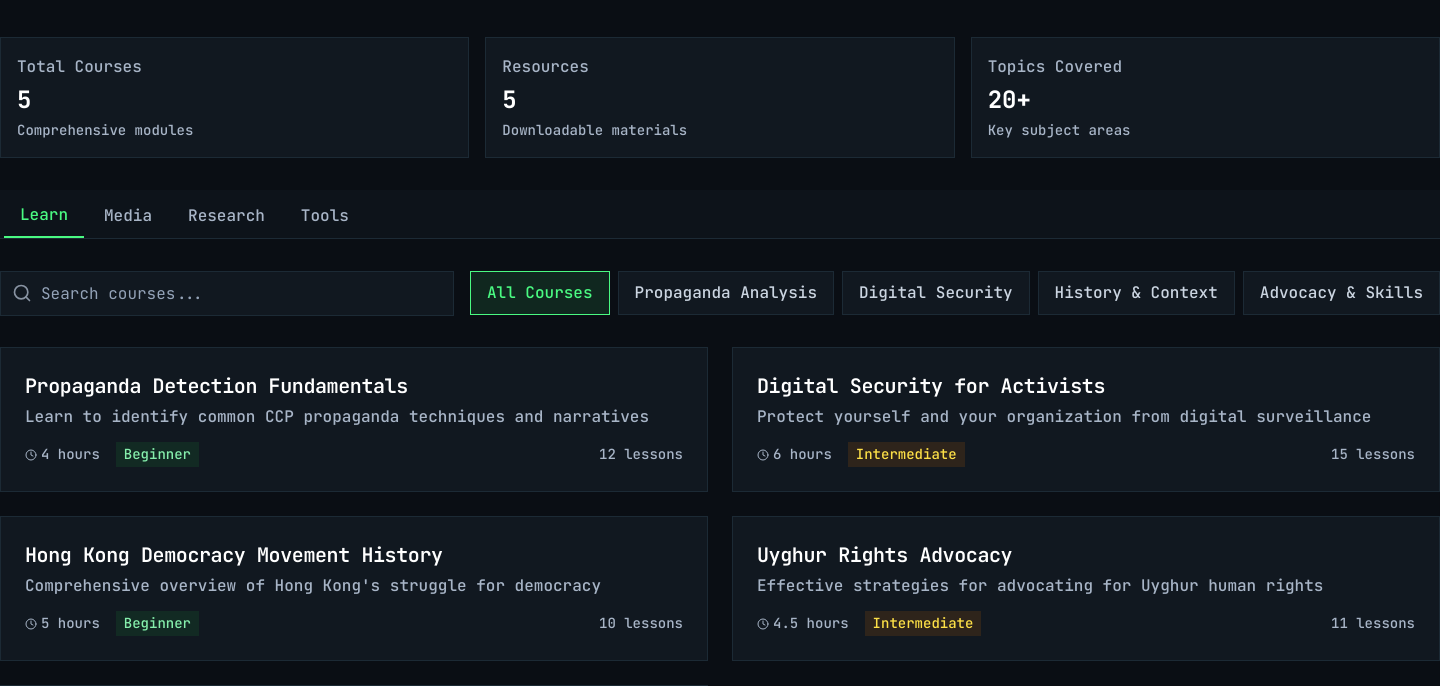
it: EducationalResources › shows module details when clicked
What coordinates should you click on to do the following:
click the button "Propaganda Detection Fundamentals"
I would click on:
 (354, 420)
Its box is [0,347,708,492].
(page scrolled)
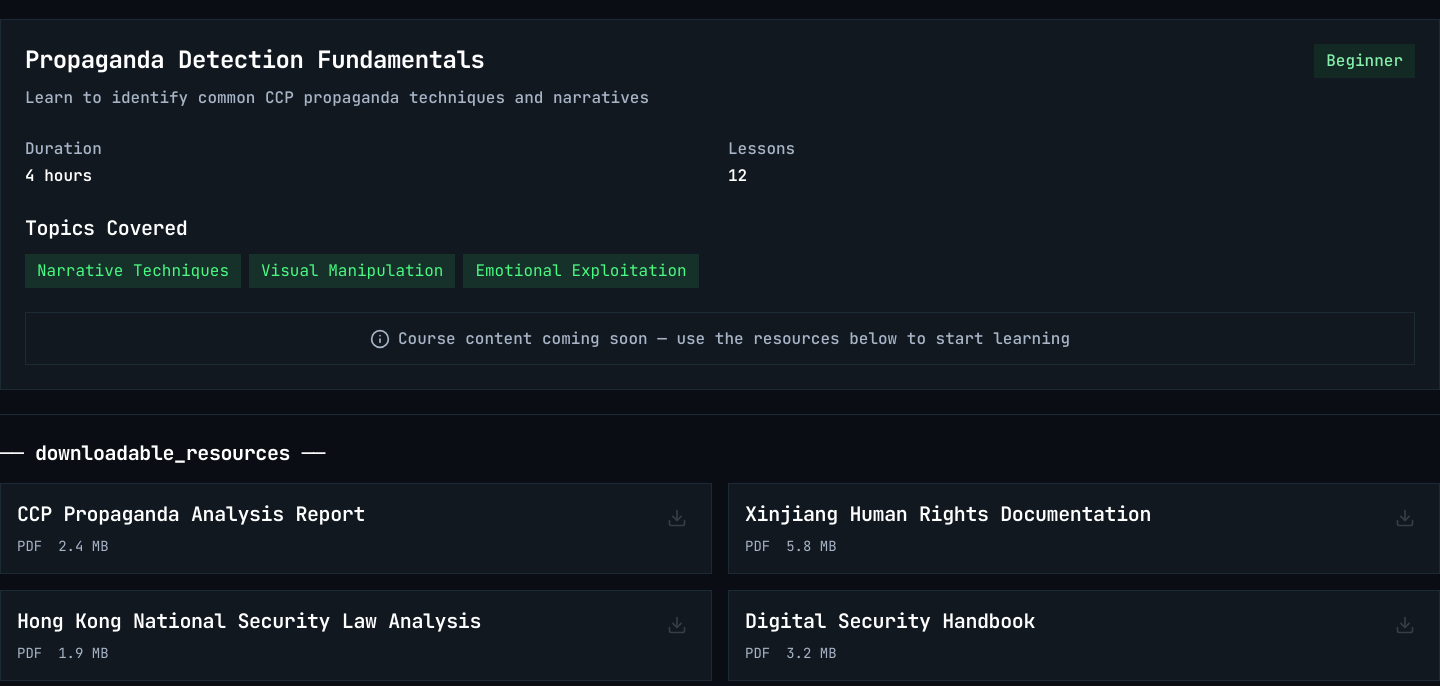
expect the text "Narrative Techniques" is shown: met, box [25,254,241,288]
expect the text "Visual Manipulation" is shown: met, box [249,254,455,288]
expect the text "Course content coming soon" is shown: met, box [398,328,1070,349]
